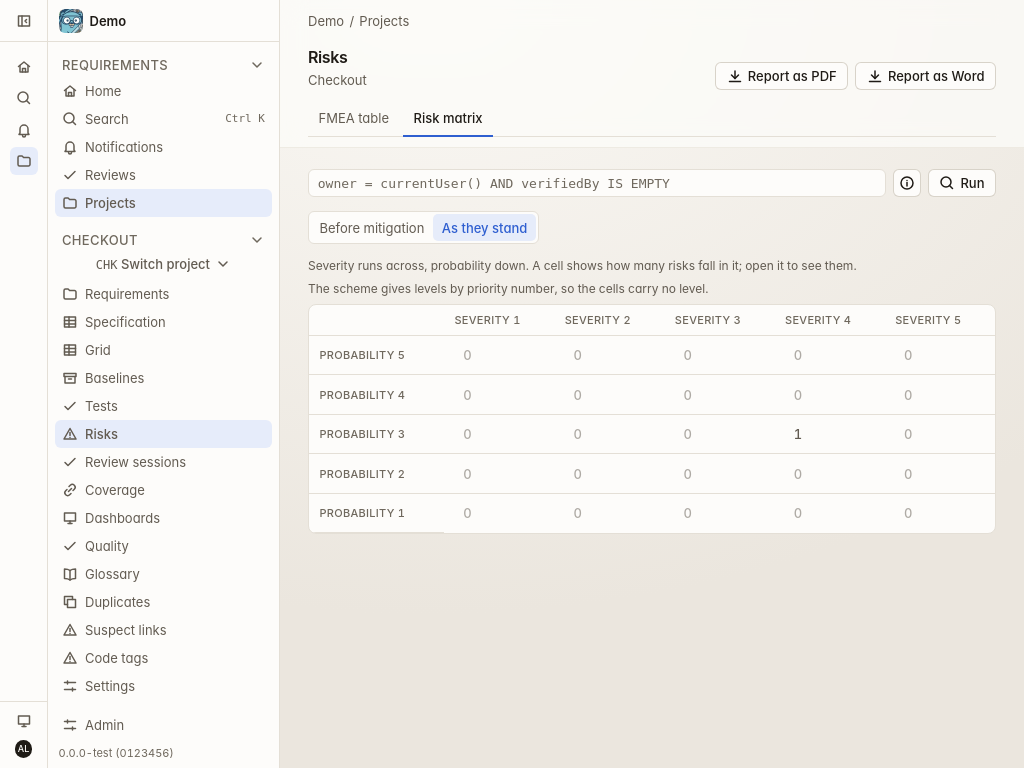
Test: the risk matrix's controls › shows why a query does not parse
This screenshot has width=1024, height=768.
Expected: the table named "Risk matrix" is shown, [309,305,995,533]
In the dropdown named "Query": point(597, 183) [308,169,886,197], type "bogus"
Then press Enter
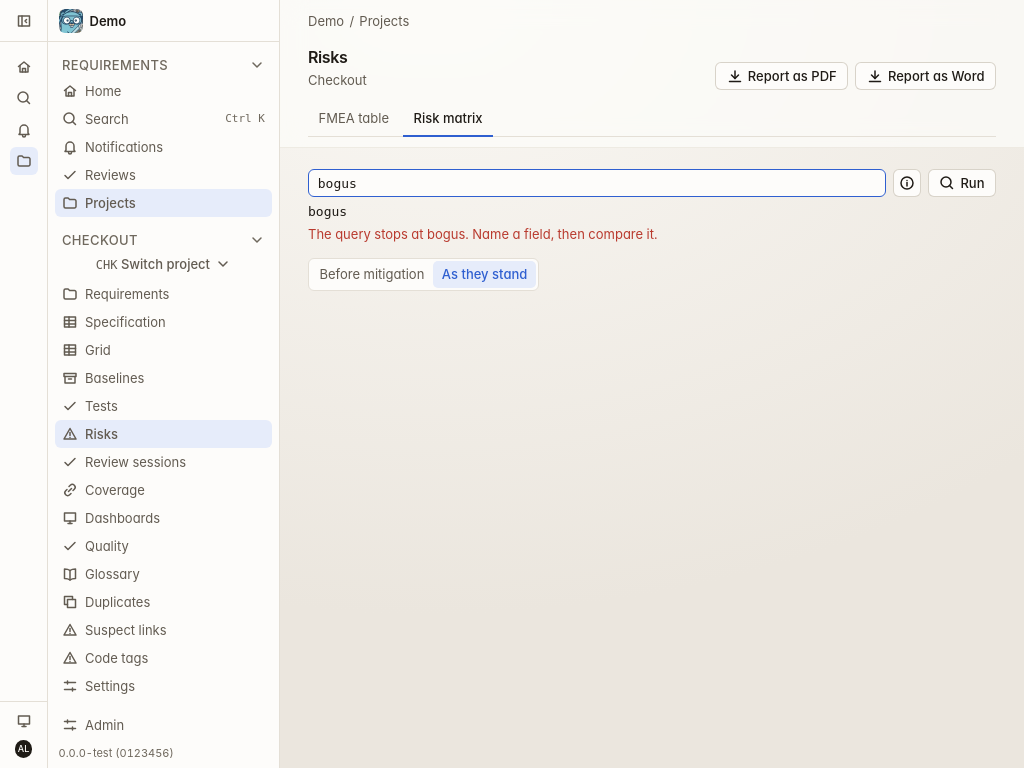
Expected: the text "The query stops at bogus. Name a field, then compare it." is shown, [308,226,658,242]
